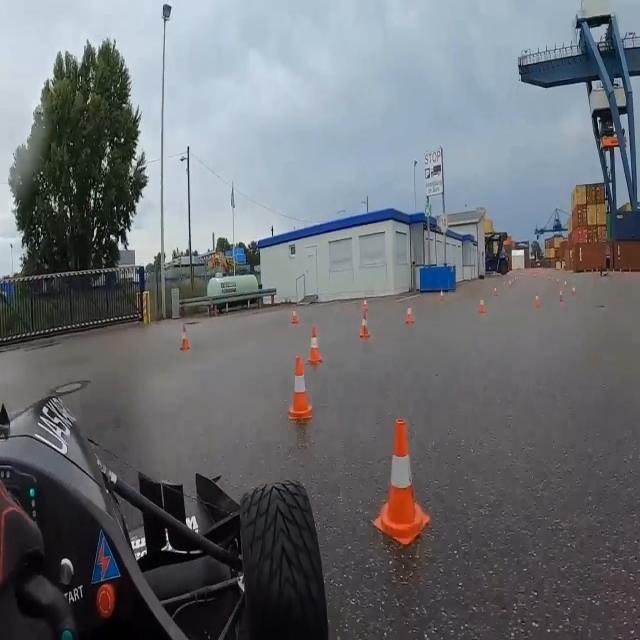Orange cone: (370, 401, 434, 563), (282, 352, 323, 442), (552, 266, 584, 316), (353, 293, 379, 352), (304, 319, 331, 372), (170, 320, 198, 364), (399, 294, 425, 332), (284, 301, 306, 336), (474, 292, 494, 329), (432, 281, 452, 312), (531, 287, 547, 321), (498, 269, 518, 296)
